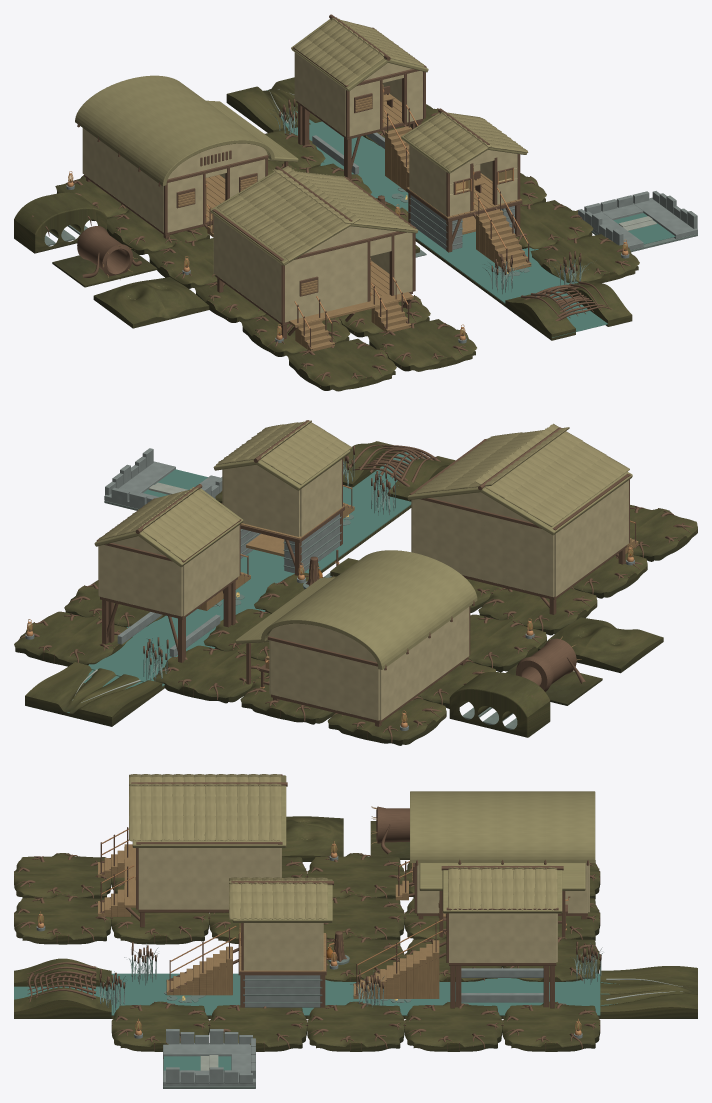
The model's file is bellroot-fen-floodward-marches-reedworkers-and-refuge--1a4d4f62__32943.glb.
The picture shows the model from 3 angles, top to bottom: view 1: azimuth 30°, elevation 25°; view 2: azimuth 150°, elevation 25°; view 3: azimuth 270°, elevation 25°; orthographic projection. The views are drawn at different scales.
Visible parts, largest first — view 1: 020-reedworkers-longhouse/4, 021-flood-refuge-dormitory/2, 021-flood-refuge-dormitory/5, 020-reedworkers-longhouse/2, 022-pile-dwelling/2, 022-pile-dwelling/5, 023-causeway-watch-lodge/4, 011-living-levee-rootbank/0, 023-causeway-watch-lodge/7, 031-shellback-nesting-hummock/0, 034-drowned-courtyard-foundation/1, 014-living-levee-rootbank/0 (+33 smaller); view 2: 021-flood-refuge-dormitory/2, 020-reedworkers-longhouse/4, 020-reedworkers-longhouse/2, 021-flood-refuge-dormitory/5, 022-pile-dwelling/2, 023-causeway-watch-lodge/4, 029-silt-fan-delta/0, 022-pile-dwelling/5, 032-silt-tunneller-burrow-bank/0, 023-causeway-watch-lodge/7, 006-living-levee-rootbank/0, 015-living-levee-rootbank/0 (+34 smaller); view 3: 020-reedworkers-longhouse/4, 021-flood-refuge-dormitory/5, 021-flood-refuge-dormitory/2, 022-pile-dwelling/2, 029-silt-fan-delta/0, 022-pile-dwelling/5, 034-drowned-courtyard-foundation/1, 017-living-levee-rootbank/0, 016-living-levee-rootbank/0, 023-causeway-watch-lodge/7, 015-living-levee-rootbank/0, 030-abandoned-weir-mound/0 (+39 smaller).
Boxes of the visible parts, x1,y1,x2,y2 form: 020-reedworkers-longhouse/4: (75, 75, 298, 186); 021-flood-refuge-dormitory/2: (213, 215, 412, 322); 021-flood-refuge-dormitory/5: (217, 166, 414, 261); 020-reedworkers-longhouse/2: (82, 128, 267, 232); 022-pile-dwelling/2: (294, 52, 422, 136); 022-pile-dwelling/5: (294, 17, 424, 85); 023-causeway-watch-lodge/4: (409, 145, 517, 215); 011-living-levee-rootbank/0: (287, 338, 396, 391); 023-causeway-watch-lodge/7: (404, 112, 528, 171); 031-shellback-nesting-hummock/0: (93, 277, 209, 328); 034-drowned-courtyard-foundation/1: (578, 191, 697, 250); 014-living-levee-rootbank/0: (368, 319, 476, 371); 021-flood-refuge-dormitory/2: (411, 480, 628, 597); 020-reedworkers-longhouse/4: (235, 550, 477, 669); 020-reedworkers-longhouse/2: (269, 607, 469, 720); 021-flood-refuge-dormitory/5: (414, 423, 629, 526); 022-pile-dwelling/2: (98, 525, 239, 616); 023-causeway-watch-lodge/4: (222, 459, 341, 536); 029-silt-fan-delta/0: (25, 662, 162, 726); 022-pile-dwelling/5: (99, 487, 239, 560); 032-silt-tunneller-burrow-bank/0: (449, 672, 550, 737); 023-causeway-watch-lodge/7: (216, 420, 351, 484); 006-living-levee-rootbank/0: (153, 645, 269, 703); 015-living-levee-rootbank/0: (14, 611, 132, 666); 020-reedworkers-longhouse/4: (410, 791, 595, 890); 021-flood-refuge-dormitory/5: (129, 774, 281, 841); 021-flood-refuge-dormitory/2: (138, 848, 281, 909); 022-pile-dwelling/2: (449, 913, 557, 962); 029-silt-fan-delta/0: (600, 966, 697, 1018); 022-pile-dwelling/5: (448, 865, 557, 910); 034-drowned-courtyard-foundation/1: (163, 1029, 255, 1086); 017-living-levee-rootbank/0: (307, 1001, 404, 1051); 016-living-levee-rootbank/0: (405, 1002, 502, 1051); 023-causeway-watch-lodge/7: (229, 877, 327, 919); 015-living-levee-rootbank/0: (502, 1001, 600, 1051); 030-abandoned-weir-mound/0: (14, 958, 111, 1018).
Bounding box in the file's own units: 25.85 × 5.97 × 28.
16 materials, 9 textured.
